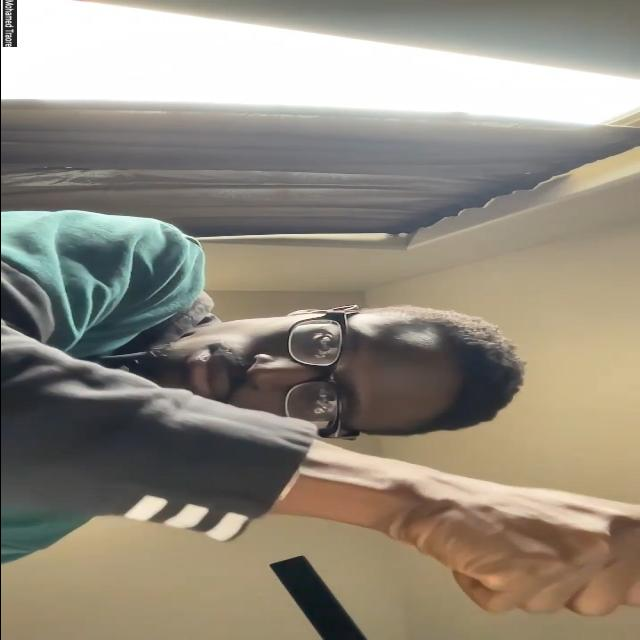Rock: (384, 488, 640, 616)
